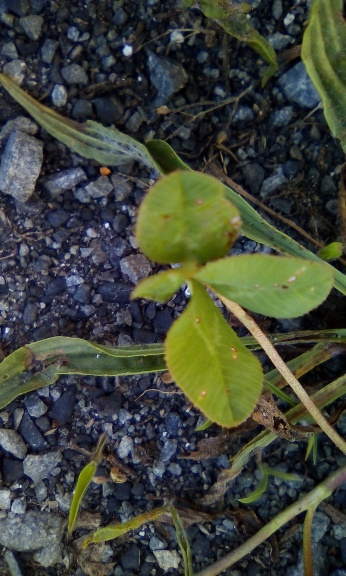4leaf: (129, 167, 336, 430)
